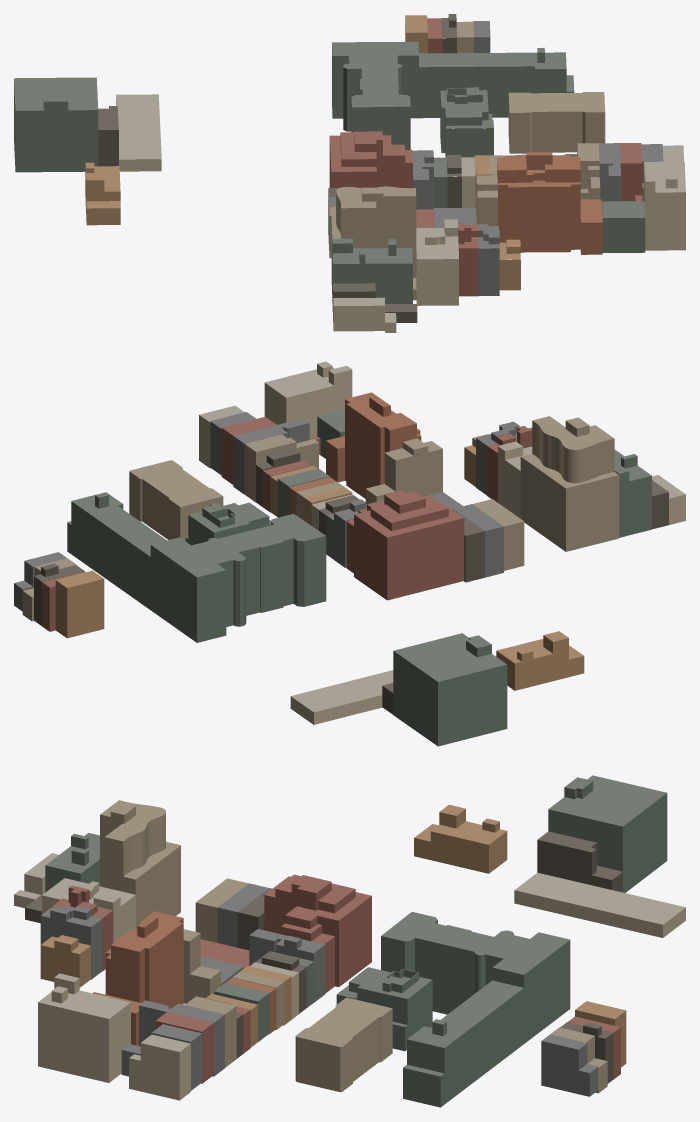
The model's file is tile--4_-9.glb.
3 views of the same model, one above another, from view 1: azimuth 30°, elevation 25°; view 2: azimuth 150°, elevation 25°; view 3: azimuth 270°, elevation 25° (orthographic). The views are drawn at different scales.
Parts seen in each view (by area): view 1: wall, roof; view 2: wall, roof; view 3: wall, roof.
Part boxes in pixels (bbox=[...]): wall: bbox=[14, 15, 685, 332]; roof: bbox=[14, 14, 685, 322]; wall: bbox=[14, 364, 685, 746]; roof: bbox=[14, 361, 685, 712]; wall: bbox=[14, 781, 685, 1107]; roof: bbox=[14, 775, 685, 1076].
Size of the model in its own units: 207 by 42.26 by 222.
